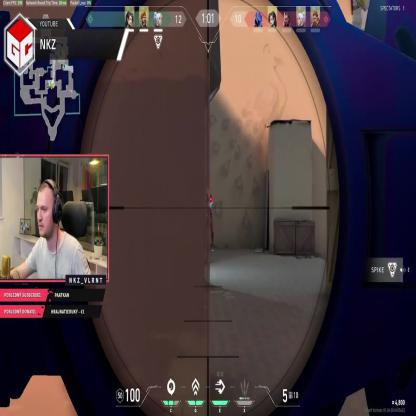enemy: (204, 191, 214, 250)
enemy_head: (206, 191, 210, 202)
